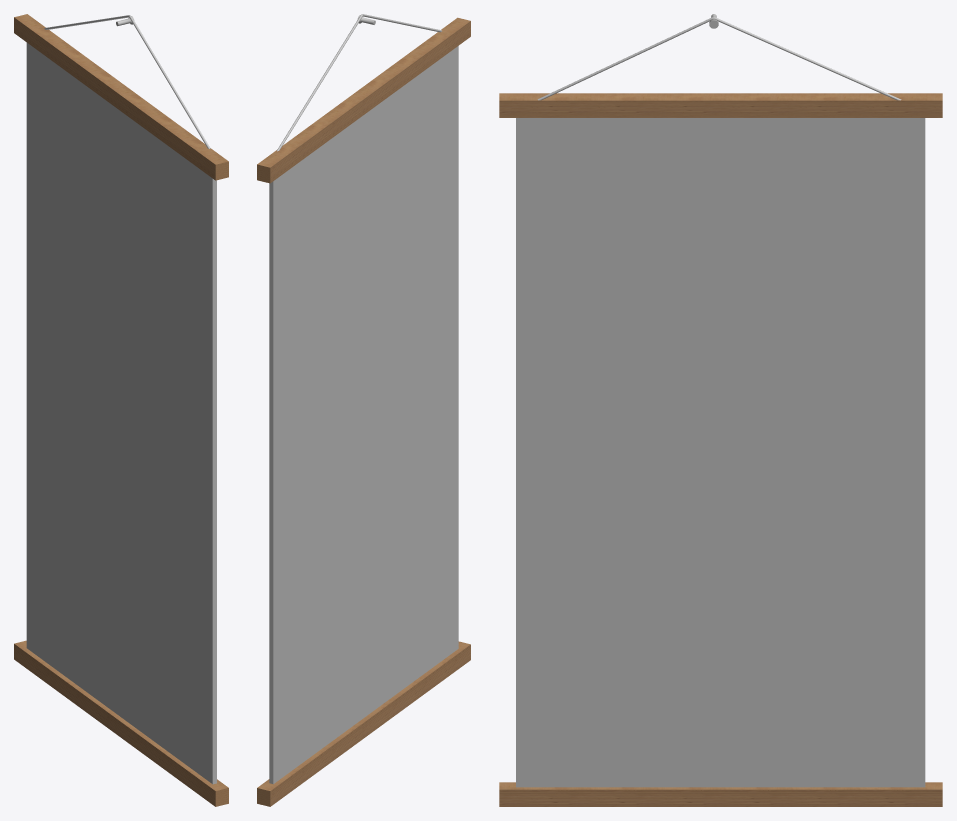
File: Picture 5.FBX
3 views of the same model, side by side, from view 1: azimuth 30°, elevation 25°; view 2: azimuth 150°, elevation 25°; view 3: azimuth 270°, elevation 25° (orthographic). The views are drawn at different scales.
Visible parts, largest first — view 1: picture 5; view 2: picture 5; view 3: picture 5.
Part boxes in pixels (x1=…): picture 5: x1=14, y1=14, x2=228, y2=806; picture 5: x1=257, y1=14, x2=470, y2=806; picture 5: x1=499, y1=14, x2=942, y2=806.
Size of the model in its own units: 2.17 by 98.43 by 50.12.
